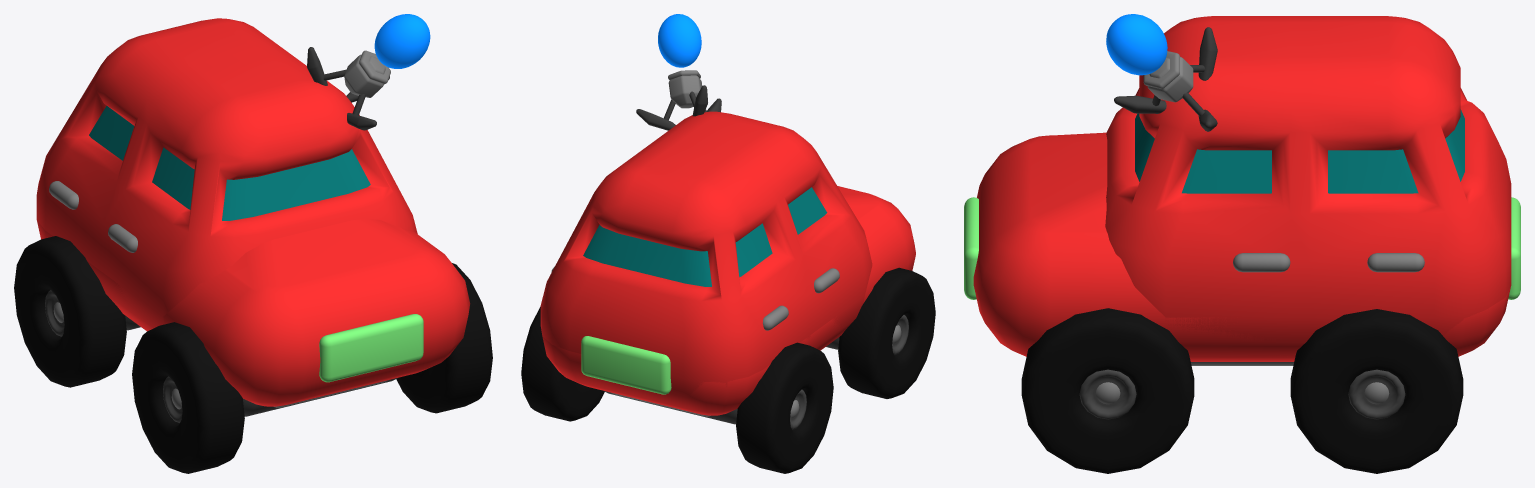
Rendered from LastLuna_Model_Object_Car.fbx.
3 views of the same model, side by side, from view 1: azimuth 30°, elevation 25°; view 2: azimuth 150°, elevation 25°; view 3: azimuth 270°, elevation 25° (orthographic). The views are drawn at different scales.
Visible parts, largest first — view 1: Car001, Tire001, Tire003, Tire002, LlicensePlate001, Portal001, Drill_Body001, Car_Floor001, Doorknob001, Doorknob003; view 2: Car001, Tire003, Tire001, Tire004, LlicensePlate002, Portal001, Drill_Body001, Car_Floor001; view 3: Car001, Tire002, Tire004, Portal001, Wheel004, Wheel002, LlicensePlate001, Drill_Body001, Doorknob002, Doorknob004, LlicensePlate002, Leg_Spike002 (+2 smaller).
Boxes of the visible parts, x1,y1,x2,y2 form: Car001: [36, 18, 470, 406]; Tire001: [132, 322, 244, 473]; Tire003: [14, 236, 126, 387]; Tire002: [396, 263, 492, 413]; LlicensePlate001: [319, 314, 423, 382]; Portal001: [374, 14, 430, 68]; Drill_Body001: [344, 54, 385, 97]; Car_Floor001: [125, 316, 397, 416]; Doorknob001: [108, 224, 137, 252]; Doorknob003: [49, 181, 78, 209]; Car001: [540, 111, 915, 415]; Tire003: [736, 342, 833, 473]; Tire001: [838, 267, 935, 398]; Tire004: [521, 306, 604, 421]; LlicensePlate002: [581, 336, 671, 394]; Portal001: [658, 14, 701, 67]; Drill_Body001: [668, 75, 702, 108]; Car_Floor001: [603, 337, 839, 424]; Car001: [973, 16, 1511, 361]; Tire002: [1021, 308, 1194, 473]; Tire004: [1290, 309, 1463, 473]; Portal001: [1106, 14, 1167, 75]; Wheel004: [1348, 369, 1405, 419]; Wheel002: [1079, 369, 1136, 419]; LlicensePlate001: [964, 197, 978, 299]; Drill_Body001: [1147, 56, 1193, 102]; Doorknob002: [1233, 253, 1290, 272]; Doorknob004: [1367, 253, 1424, 272]; LlicensePlate002: [1508, 197, 1520, 299]; Leg_Spike002: [1198, 27, 1217, 80].
Bounding box in the file's own units: 500 × 630 × 725.
